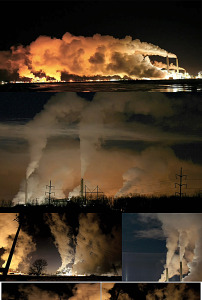dust: (15, 109, 59, 180), (95, 25, 183, 59), (71, 107, 110, 181), (152, 215, 200, 267)
